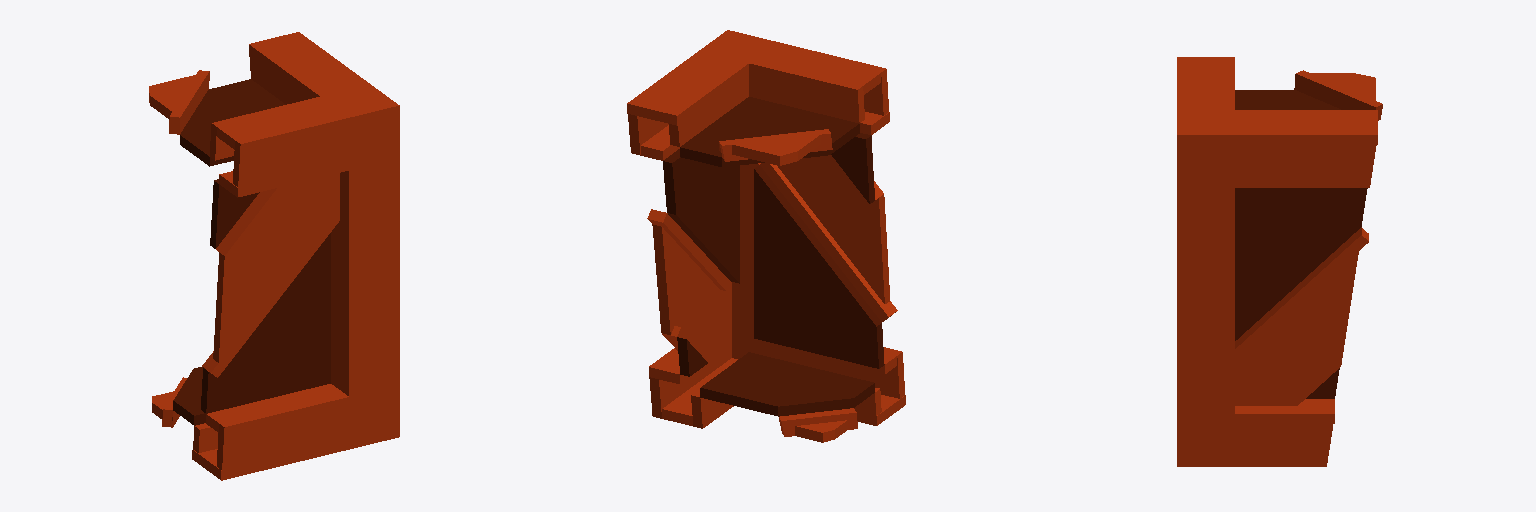
Rendered from break_pieces04.obj.
The picture shows the model from 3 angles: view 1: azimuth 30°, elevation 25°; view 2: azimuth 150°, elevation 25°; view 3: azimuth 270°, elevation 25°; orthographic projection.
Parts seen in each view (by area): view 1: crate.004; view 2: crate.004; view 3: crate.004.
Boxes of the visible parts, box(x1,y1,x2,y2) form: crate.004: box(149, 32, 399, 480); crate.004: box(627, 30, 905, 442); crate.004: box(1177, 57, 1382, 466).
Size of the model in its own units: 0.2901 by 0.5 by 0.2823.